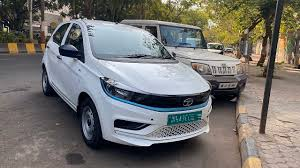Tiago: (39, 16, 214, 154)
